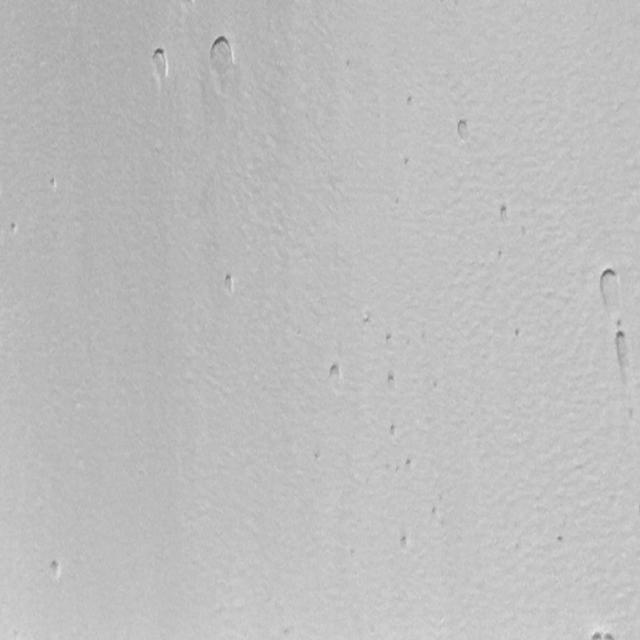pin holes: (204, 31, 240, 82), (609, 332, 637, 388), (594, 266, 623, 312), (148, 46, 172, 80), (219, 271, 240, 299), (454, 116, 476, 142), (44, 558, 65, 584), (326, 360, 344, 387), (396, 533, 416, 557), (384, 370, 402, 394), (498, 202, 512, 223), (388, 420, 404, 438), (591, 628, 616, 639), (359, 310, 372, 329), (554, 533, 569, 549), (48, 176, 61, 194), (430, 506, 443, 523), (382, 332, 396, 347), (403, 457, 416, 473), (404, 94, 417, 110), (402, 154, 414, 171), (311, 449, 324, 464), (10, 222, 22, 238), (512, 327, 524, 342), (496, 247, 508, 262)
